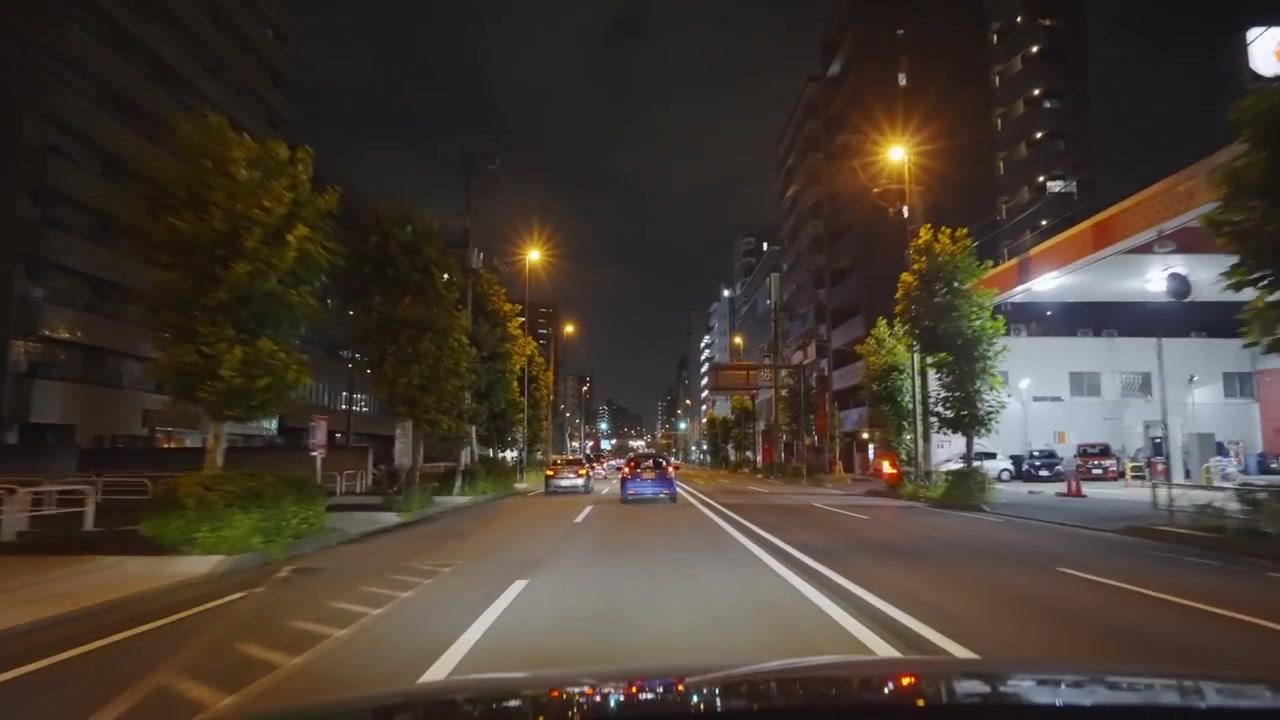car: (618, 456, 678, 503), (946, 451, 1017, 483), (1071, 442, 1121, 481), (545, 455, 593, 495), (1019, 450, 1064, 481), (601, 460, 629, 478)
